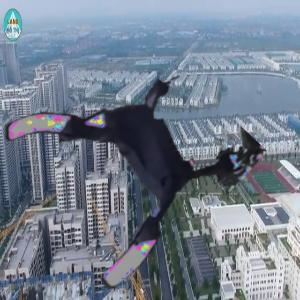drone: (14, 52, 227, 265)
